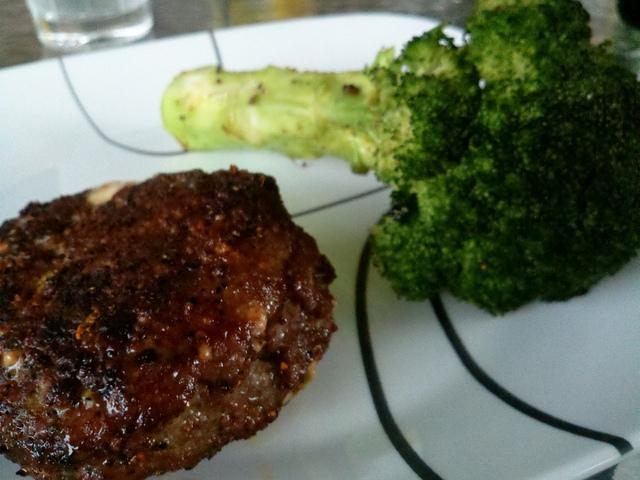broccoli: (158, 0, 640, 317)
